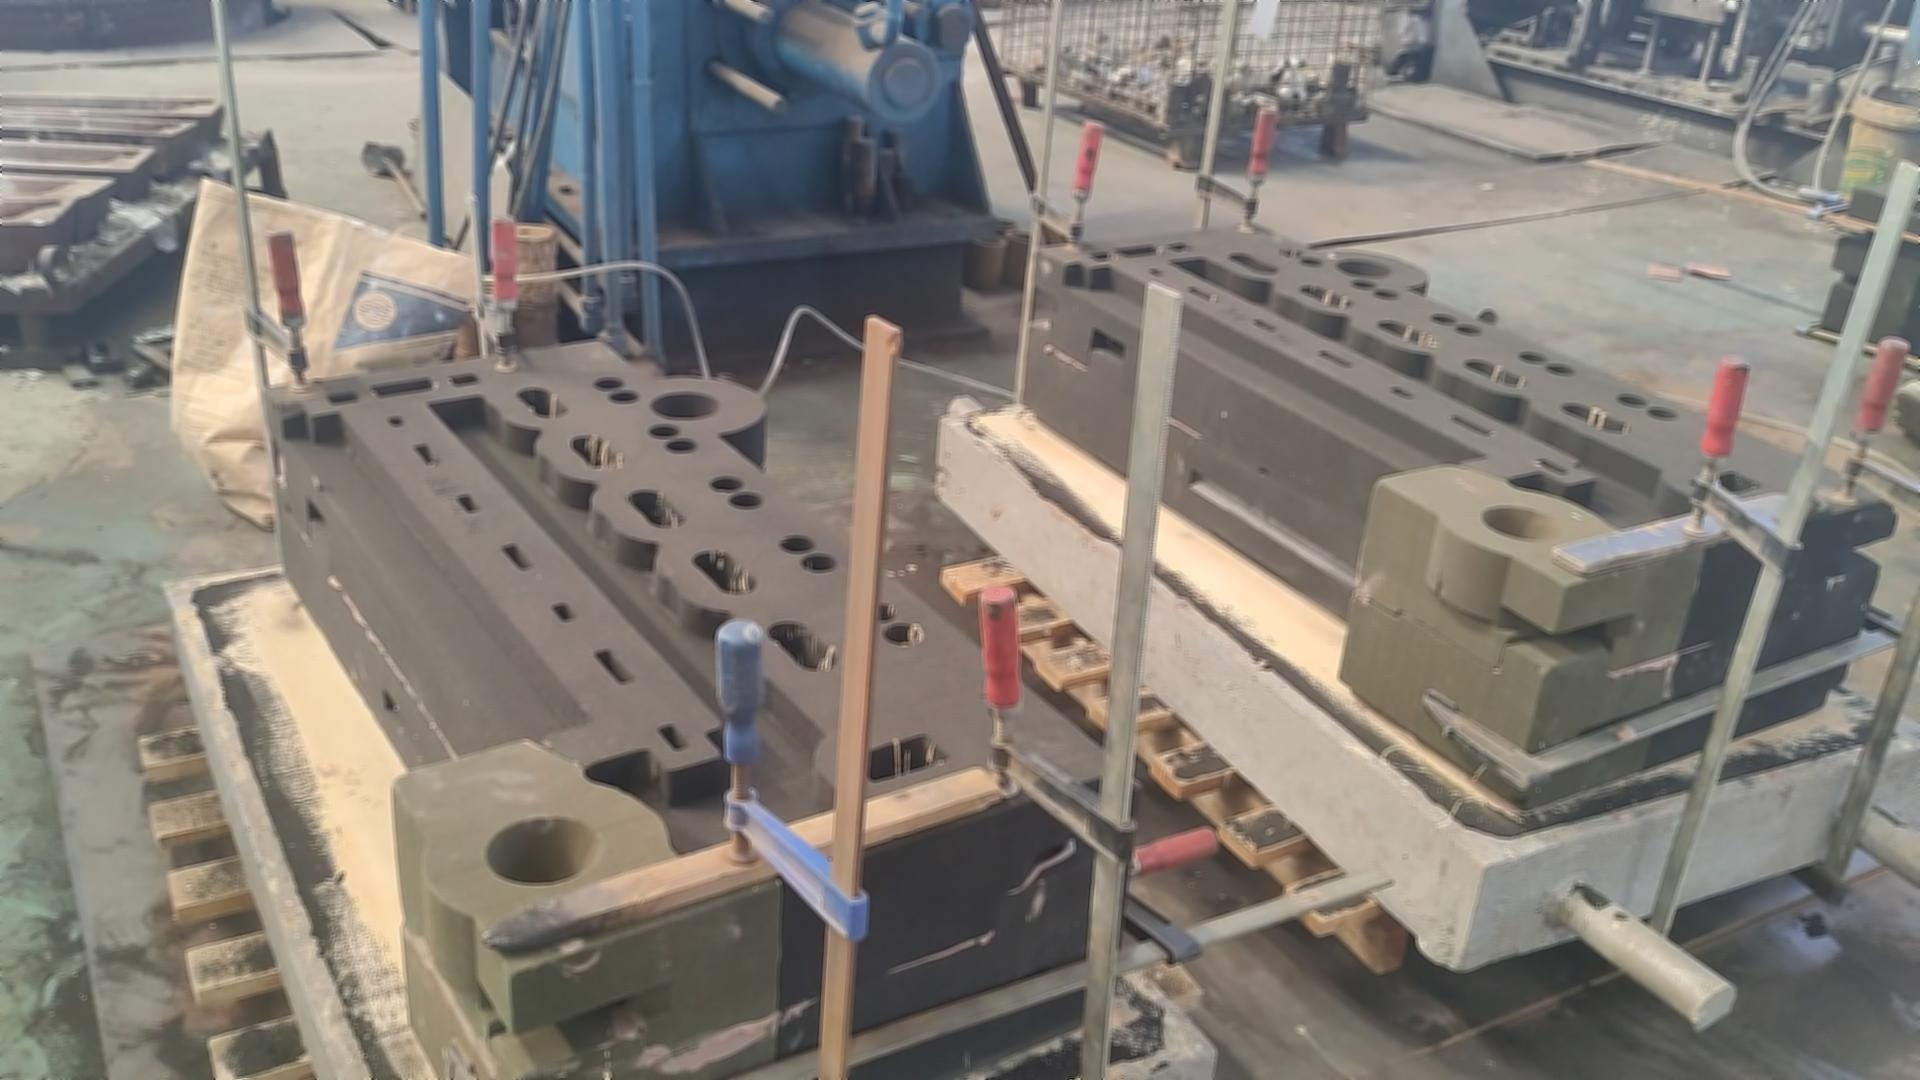pouring hole: (485, 815, 600, 884), (1480, 505, 1567, 541), (650, 392, 723, 419), (1337, 260, 1393, 278), (968, 231, 1007, 247), (1010, 229, 1044, 243), (1048, 227, 1091, 237), (982, 218, 1015, 228), (1909, 182, 1920, 199)
